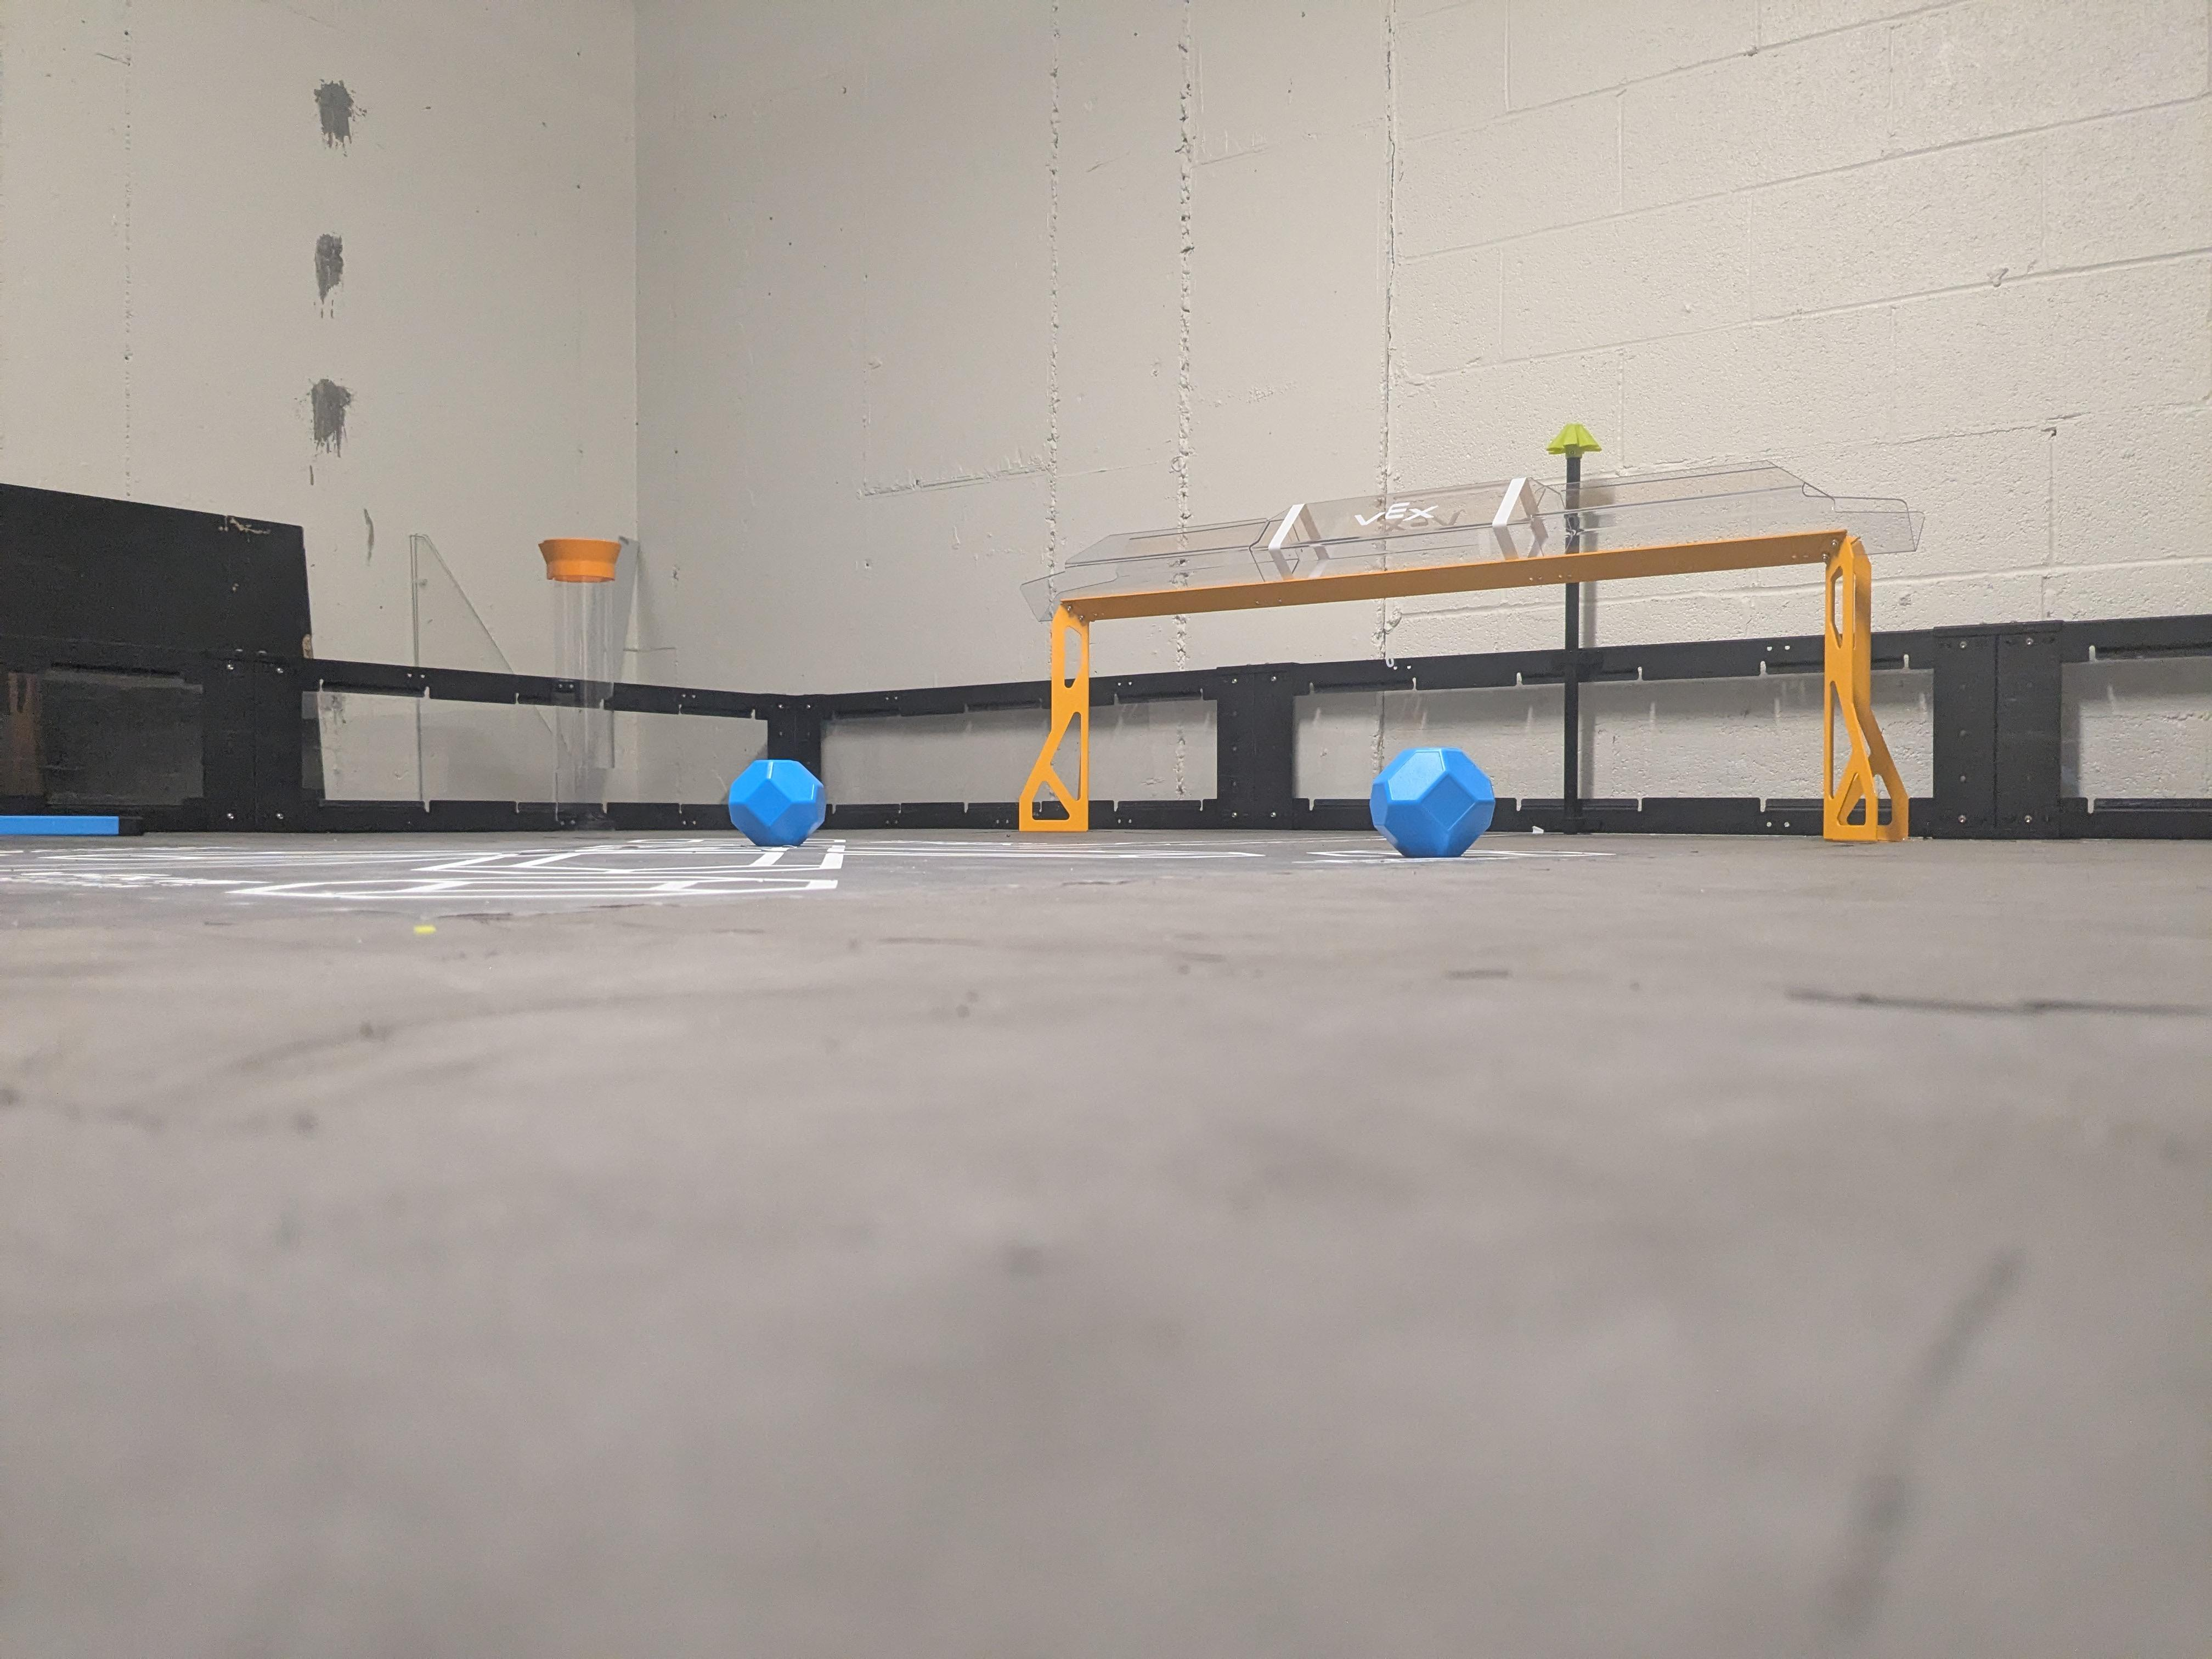Vex-Pieces-BLUE: (1367, 746, 1489, 854), (728, 758, 826, 847)
